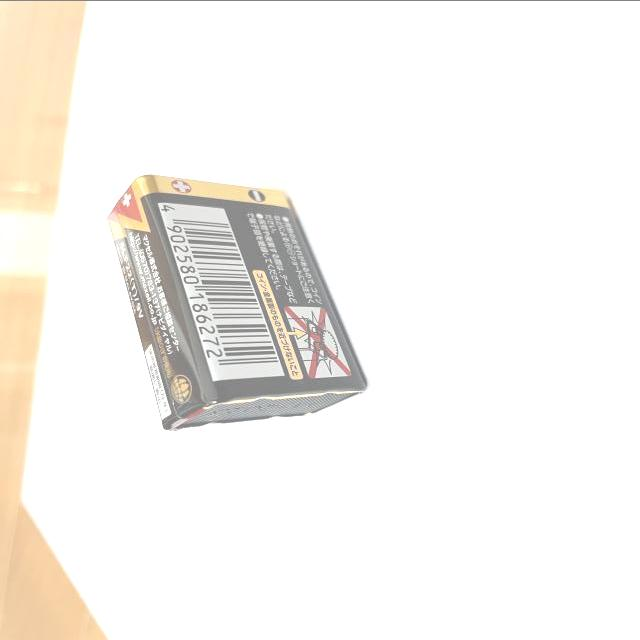9V: (108, 171, 367, 429)
